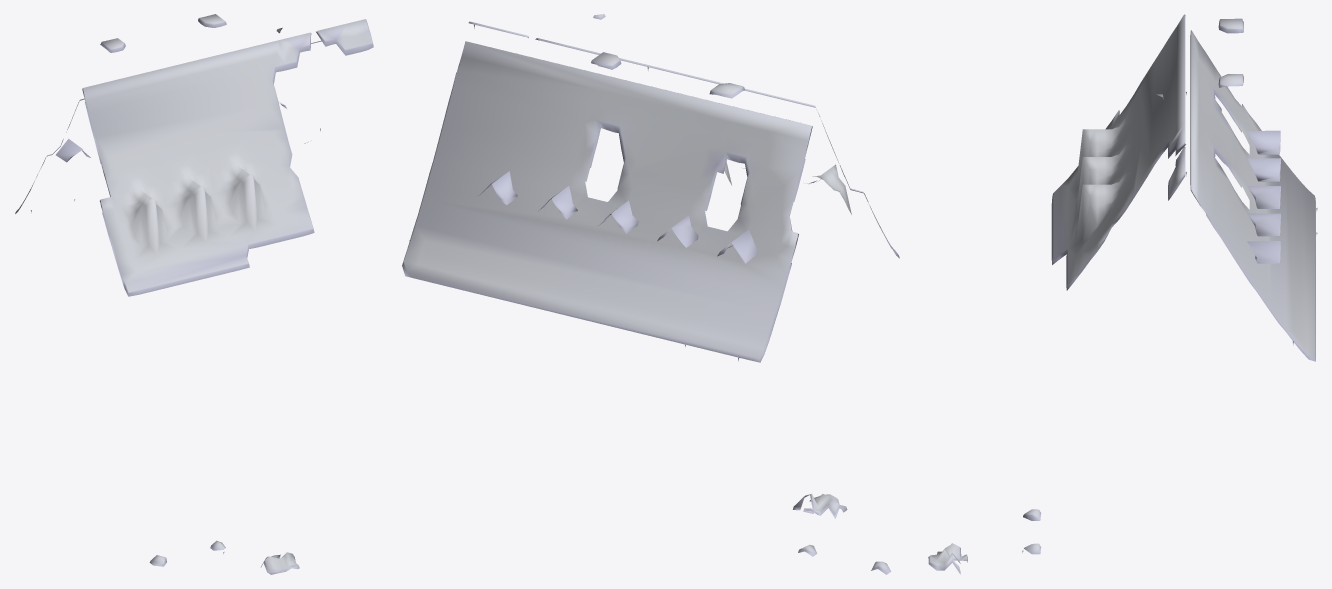
The model's file is category.other.xl.snow.glb.
The picture shows the model from 3 angles, left to right: view 1: azimuth 30°, elevation 25°; view 2: azimuth 150°, elevation 25°; view 3: azimuth 270°, elevation 25°; orthographic projection. The views are drawn at different scales.
Parts seen in each view (by area): view 1: snow; view 2: snow, tier.2; view 3: snow, tier.2.
Boxes of the visible parts, x1,y1,x2,y2 form: snow: [15, 14, 373, 574]; snow: [402, 14, 899, 574]; tier.2: [478, 171, 757, 263]; snow: [928, 14, 1317, 574]; tier.2: [1247, 130, 1280, 263].
Size of the model in its own units: 12.02 by 17.54 by 11.8.
